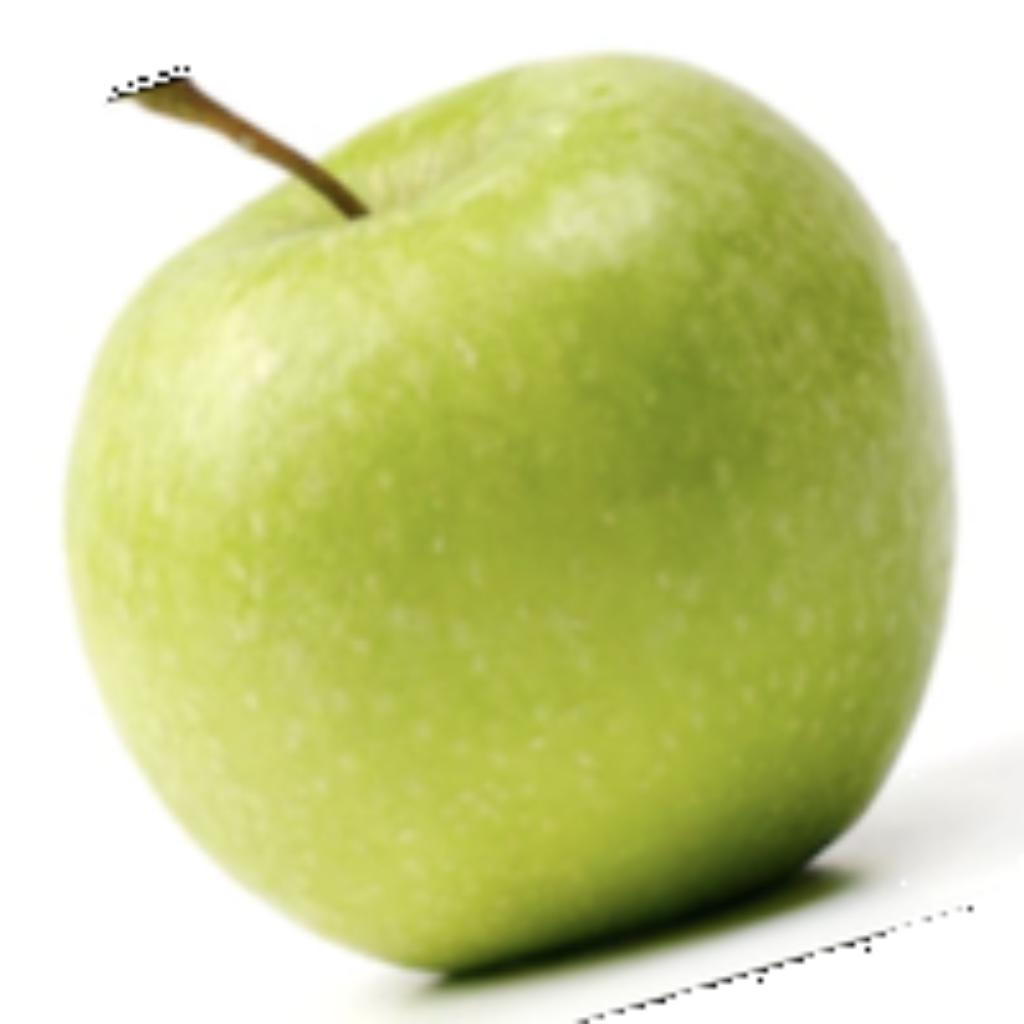apple: (56, 41, 973, 1019)
